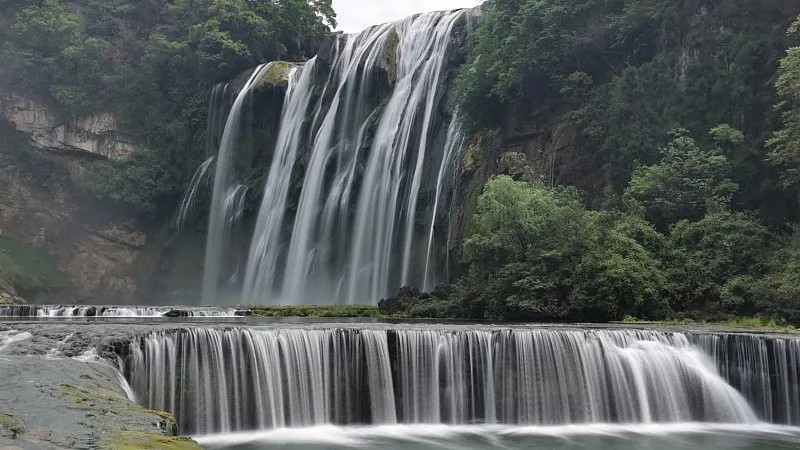Huangguoshu: (177, 7, 466, 306)
